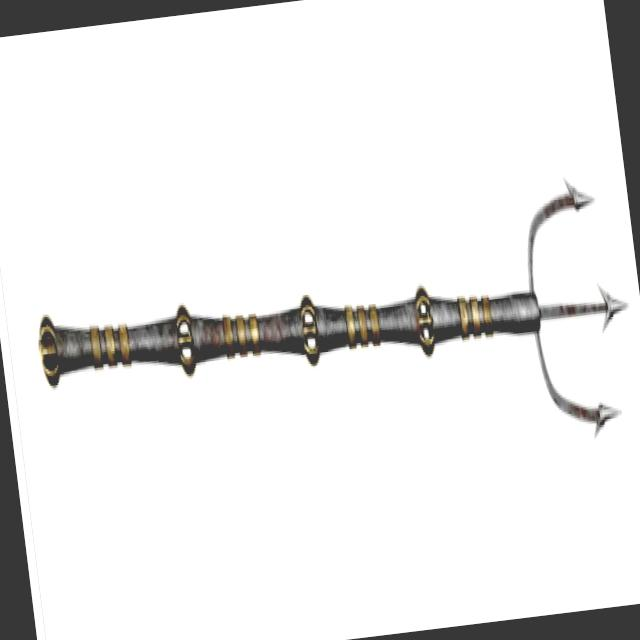spear: (18, 124, 640, 540)
